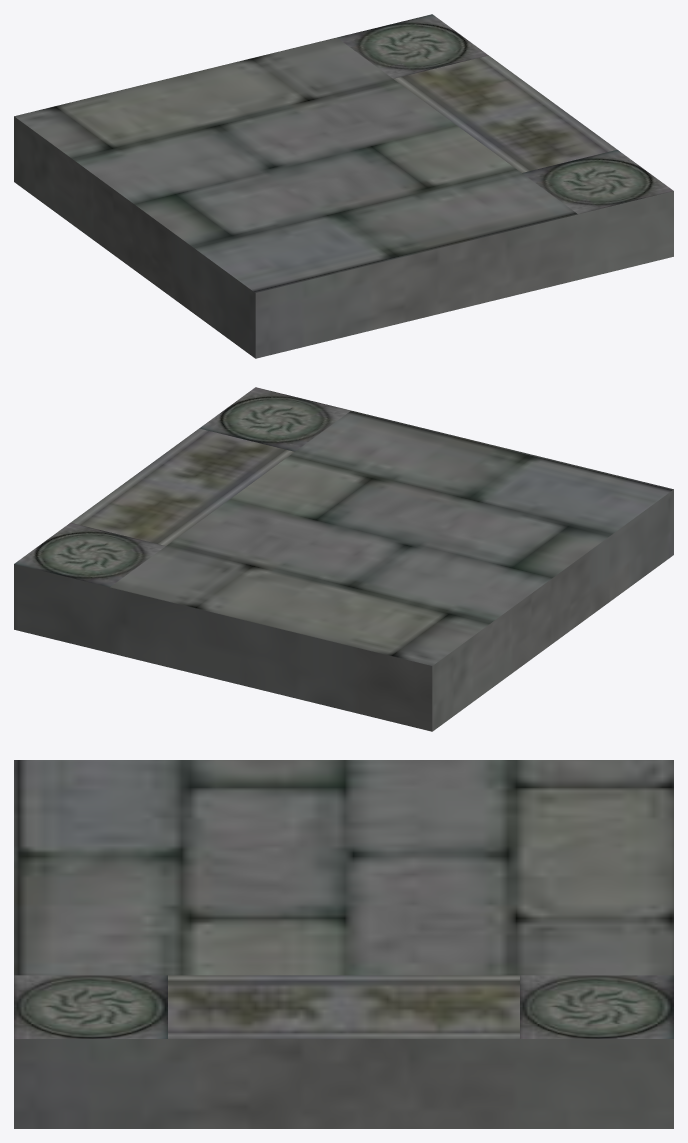
The model's file is sd_floor_small_trim_r_02.glb.
The picture shows the model from 3 angles, top to bottom: view 1: azimuth 30°, elevation 25°; view 2: azimuth 150°, elevation 25°; view 3: azimuth 270°, elevation 25°; orthographic projection. The views are drawn at different scales.
Parts seen in each view (by area): view 1: floor_small_trim_R_02; view 2: floor_small_trim_R_02; view 3: floor_small_trim_R_02.
Boxes of the visible parts, x1,y1,x2,y2 form: floor_small_trim_R_02: (14, 14, 673, 358); floor_small_trim_R_02: (14, 387, 673, 731); floor_small_trim_R_02: (14, 760, 673, 1128).
Size of the model in its own units: 2 by 0.3001 by 2.
Materials: 1 (1 with a texture image).
